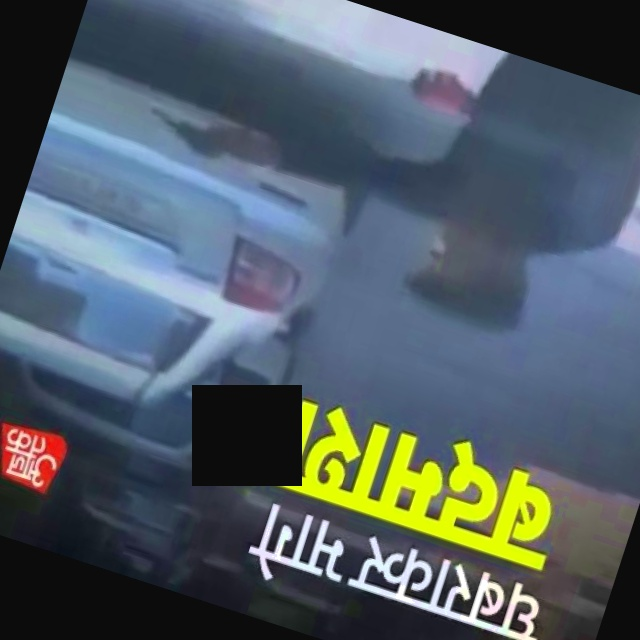gun: (131, 79, 243, 175)
